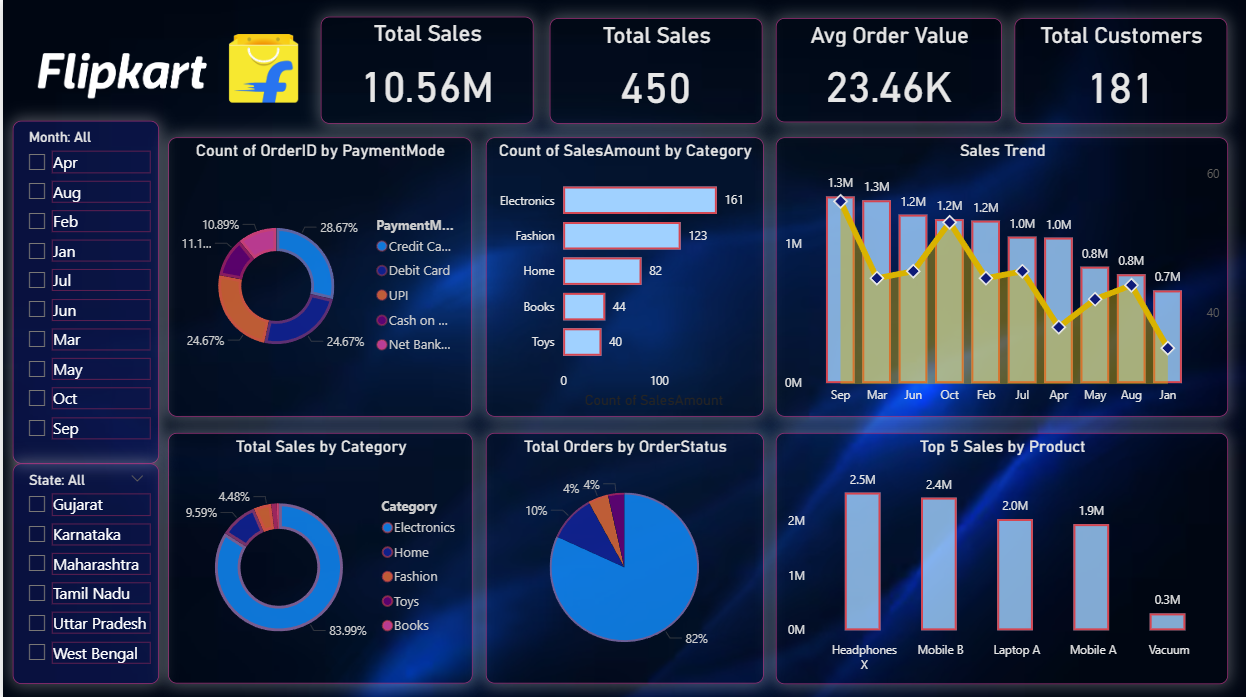

The page's visual inventory and layout, read from the dashboard file:
{"tool":"powerbi","page":{"name":"Page 1","canvas":[1280,720],"ordinal":0},"visuals":[{"type":"clusteredBarChart","fields":{"Category":["Sheet1.Category"],"Y":["CountNonNull(Sheet1.SalesAmount)"]},"box":[496.6,140.9,286,287.4],"z":0},{"type":"lineClusteredColumnComboChart","title":"Sales Trend","fields":{"Category":["Sheet1.Month"],"Y2":["Sheet1.Total Orders"],"Y":["Sum(Sheet1.SalesAmount)"]},"box":[795.1,140.9,465.9,287.4],"z":1000},{"type":"card","title":"Total Customers","fields":{"Values":["Sheet1.Total Customers"]},"box":[1042,18.1,219,108.8],"z":2000},{"type":"card","title":"Total Orders","fields":{"Values":["Sheet1.Total Orders"]},"box":[563.6,18.1,219,108.8],"z":3000},{"type":"card","title":"Total Sales","fields":{"Values":["Sheet1.Total Sales"]},"box":[327.8,16.7,219,110.2],"z":4000},{"type":"card","title":"Avg Order Value","fields":{"Values":["Sheet1.Avg Order Value"]},"box":[795.1,18.1,233,107.4],"z":5000},{"type":"pieChart","fields":{"Category":["Sheet1.OrderStatus"],"Y":["Sheet1.Total Orders"]},"box":[496.6,446.4,286,258.1],"z":6000},{"type":"donutChart","fields":{"Category":["Sheet1.Category"],"Y":["Sheet1.Total Sales"]},"box":[170.2,446.4,313.9,258.1],"z":7000},{"type":"columnChart","title":"Top 5 Sales by Product","fields":{"Category":["Sheet1.Product"],"Y":["Sheet1.Total Sales"]},"box":[795.7,445.7,465.7,258.6],"z":8000},{"type":"image","box":[19.5,29.3,299.9,80.9],"z":9000},{"type":"donutChart","fields":{"Category":["Sheet1.PaymentMode"],"Y":["CountNonNull(Sheet1.OrderID)"]},"box":[170.2,140.9,312.5,287.4],"z":10000},{"type":"slicer","fields":{"Values":["Sheet1.Month"]},"box":[9.8,124.1,150.7,352.9],"z":11000},{"type":"slicer","fields":{"Values":["Sheet1.State"]},"box":[9.8,477.1,150.7,227.4],"z":12000}]}

Visuals, with their boxes in screenshot pixels (x1, y1, x2, y2), scaled from the page's 1280x720 canvas onto the 1246x697 screenshot:
clusteredBarChart - Sheet1.Category x CountNonNull(Sheet1.SalesAmount): [483,136,762,415]
"Sales Trend" lineClusteredColumnComboChart: [774,136,1228,415]
"Total Customers" card: [1014,18,1228,123]
"Total Orders" card: [549,18,762,123]
"Total Sales" card: [319,16,532,123]
"Avg Order Value" card: [774,18,1001,121]
pieChart - Sheet1.OrderStatus x Sheet1.Total Orders: [483,432,762,682]
donutChart - Sheet1.Category x Sheet1.Total Sales: [166,432,471,682]
"Top 5 Sales by Product" columnChart: [775,431,1228,682]
image: [19,28,311,107]
donutChart - Sheet1.PaymentMode x CountNonNull(Sheet1.OrderID): [166,136,470,415]
slicer - Sheet1.Month: [10,120,156,462]
slicer - Sheet1.State: [10,462,156,682]
